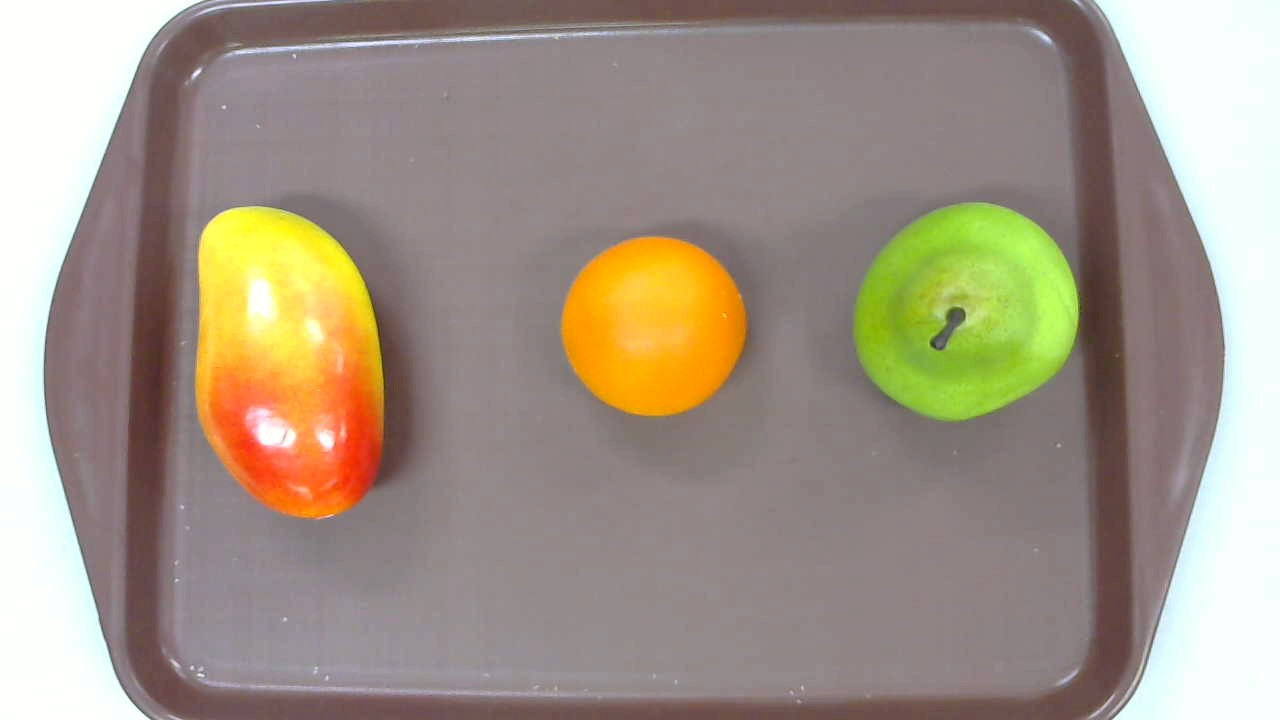bun: (561, 236, 749, 420)
green pear: (852, 201, 1078, 423)
red mango: (195, 206, 385, 520)
